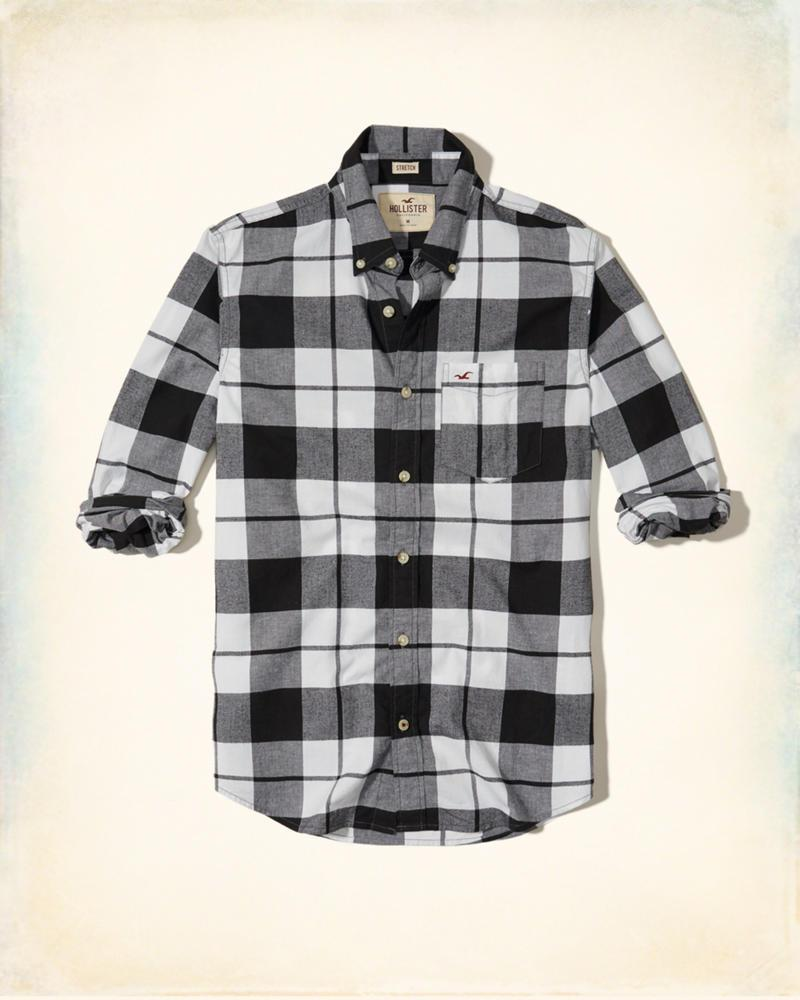teeshirt: (53, 124, 744, 857)
